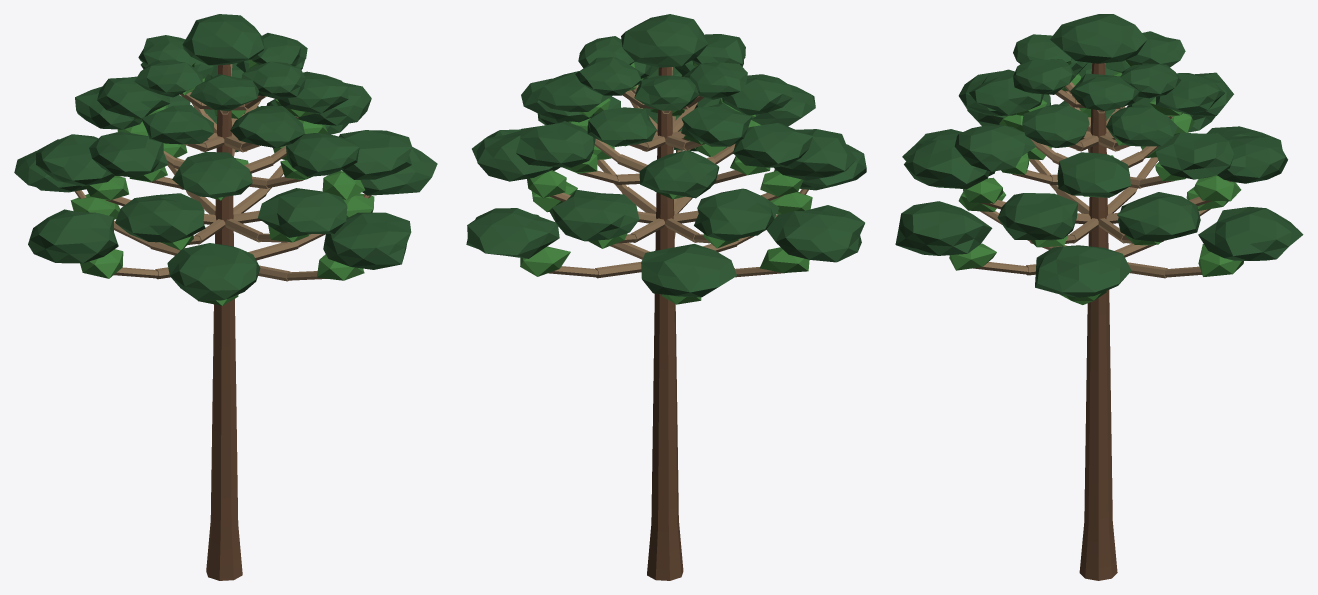
Rendered from araucaria.glb.
The picture shows the model from 3 angles, left to right: view 1: azimuth 30°, elevation 25°; view 2: azimuth 150°, elevation 25°; view 3: azimuth 270°, elevation 25°; orthographic projection.
Parts seen in each view (by area): view 1: araucaria; view 2: araucaria; view 3: araucaria.
Boxes of the visible parts, x1,y1,x2,y2 form: araucaria: [14, 14, 437, 580]; araucaria: [466, 14, 866, 580]; araucaria: [895, 14, 1303, 580].
Size of the model in its own units: 4.71 by 6.43 by 4.3.
